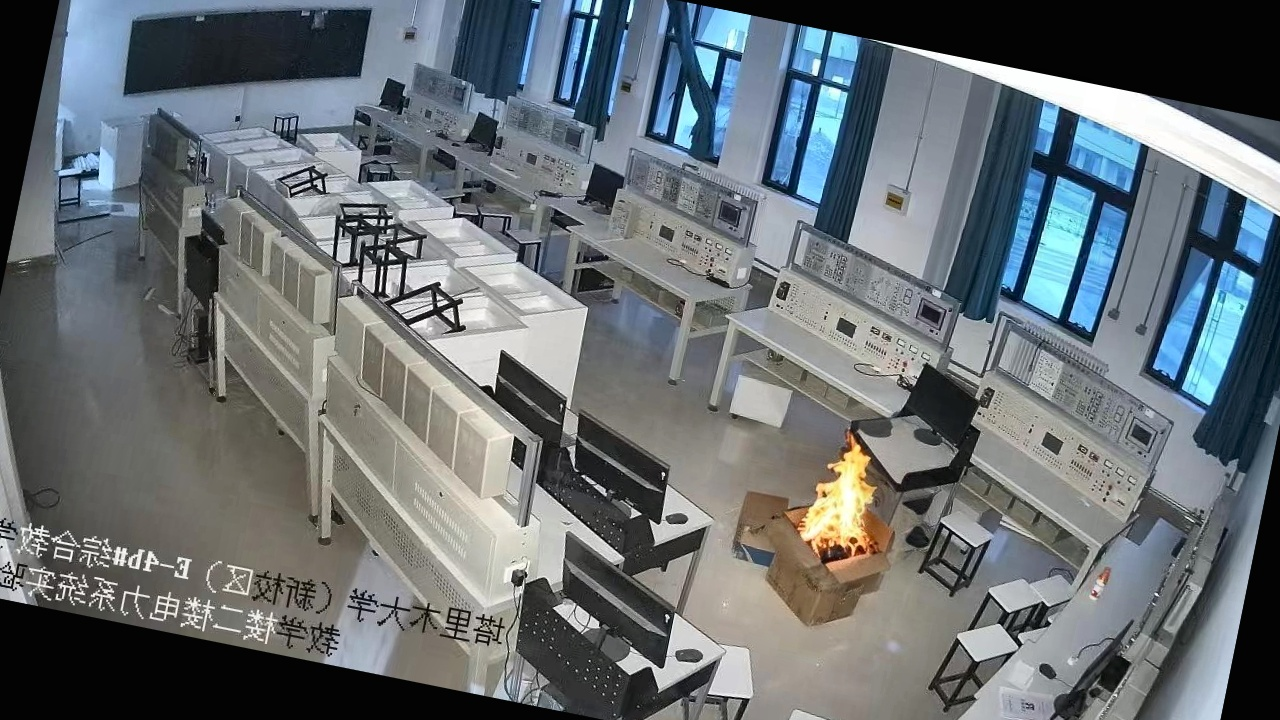fire: (758, 410, 928, 608)
